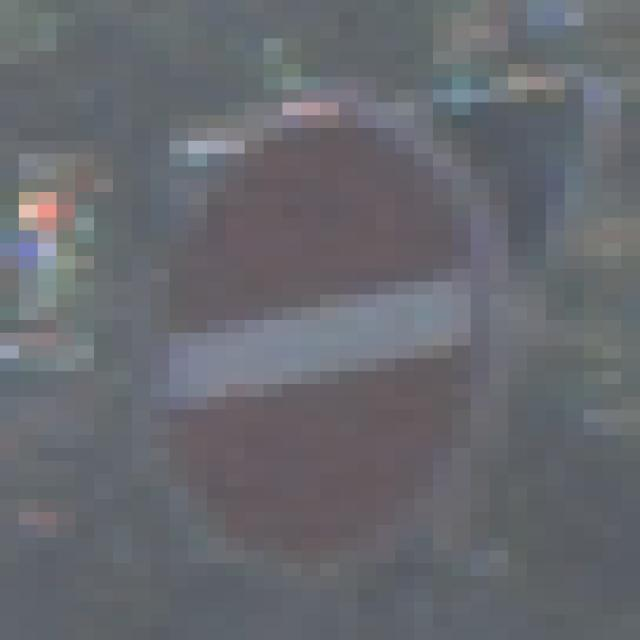No Entry: (95, 78, 528, 564)
